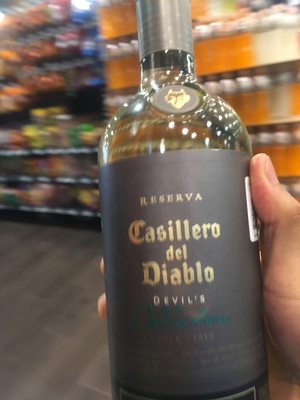casillero del diablo devils collection verde: (101, 5, 282, 400)
